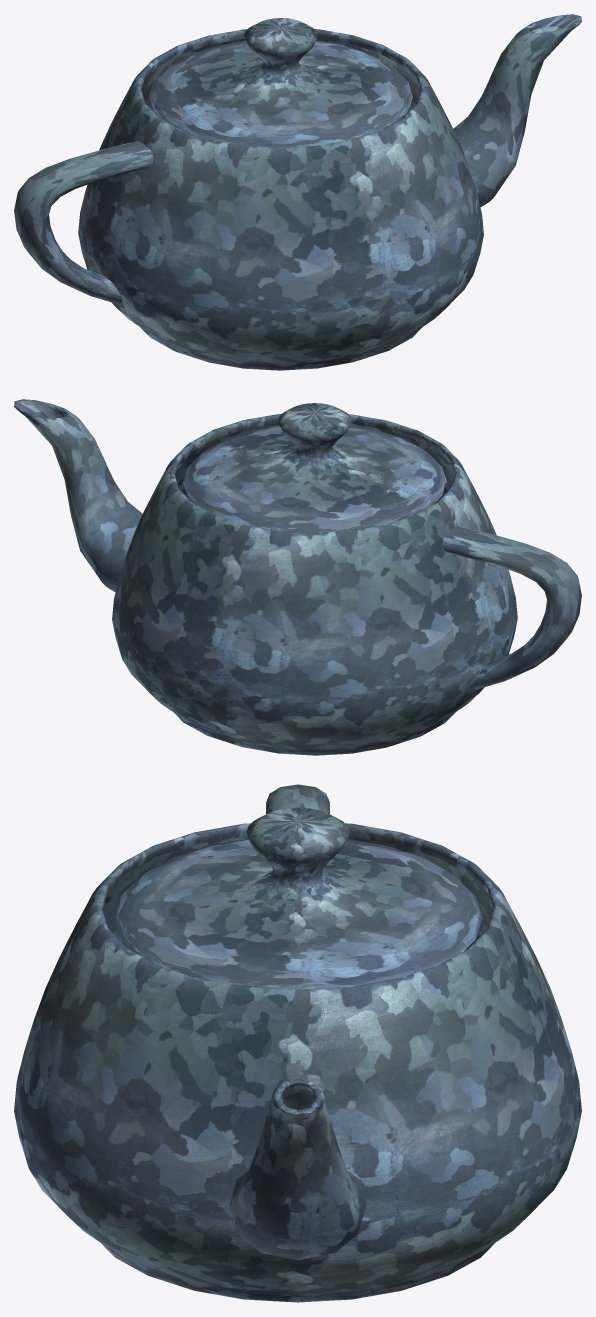
The model's file is teapot.gltf.
3 renders of one model, top to bottom at view 1: azimuth 30°, elevation 25°; view 2: azimuth 150°, elevation 25°; view 3: azimuth 270°, elevation 25°, orthographic. The views are drawn at different scales.
Parts seen in each view (by area): view 1: Teapot001; view 2: Teapot001; view 3: Teapot001.
Part boxes in pixels (x1,y1,x2,y2): Teapot001: (14, 14, 581, 370); Teapot001: (14, 399, 581, 755); Teapot001: (14, 784, 581, 1302).
Bounding box in the file's own units: 6.43 × 3.15 × 4.
Materials: 1 (1 with a texture image).
